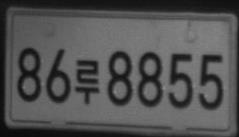5: (198, 53, 223, 110), (167, 52, 192, 108)
6: (45, 48, 71, 104)
8: (136, 50, 163, 107), (106, 50, 133, 106), (15, 46, 41, 102)
루: (75, 59, 99, 105)
